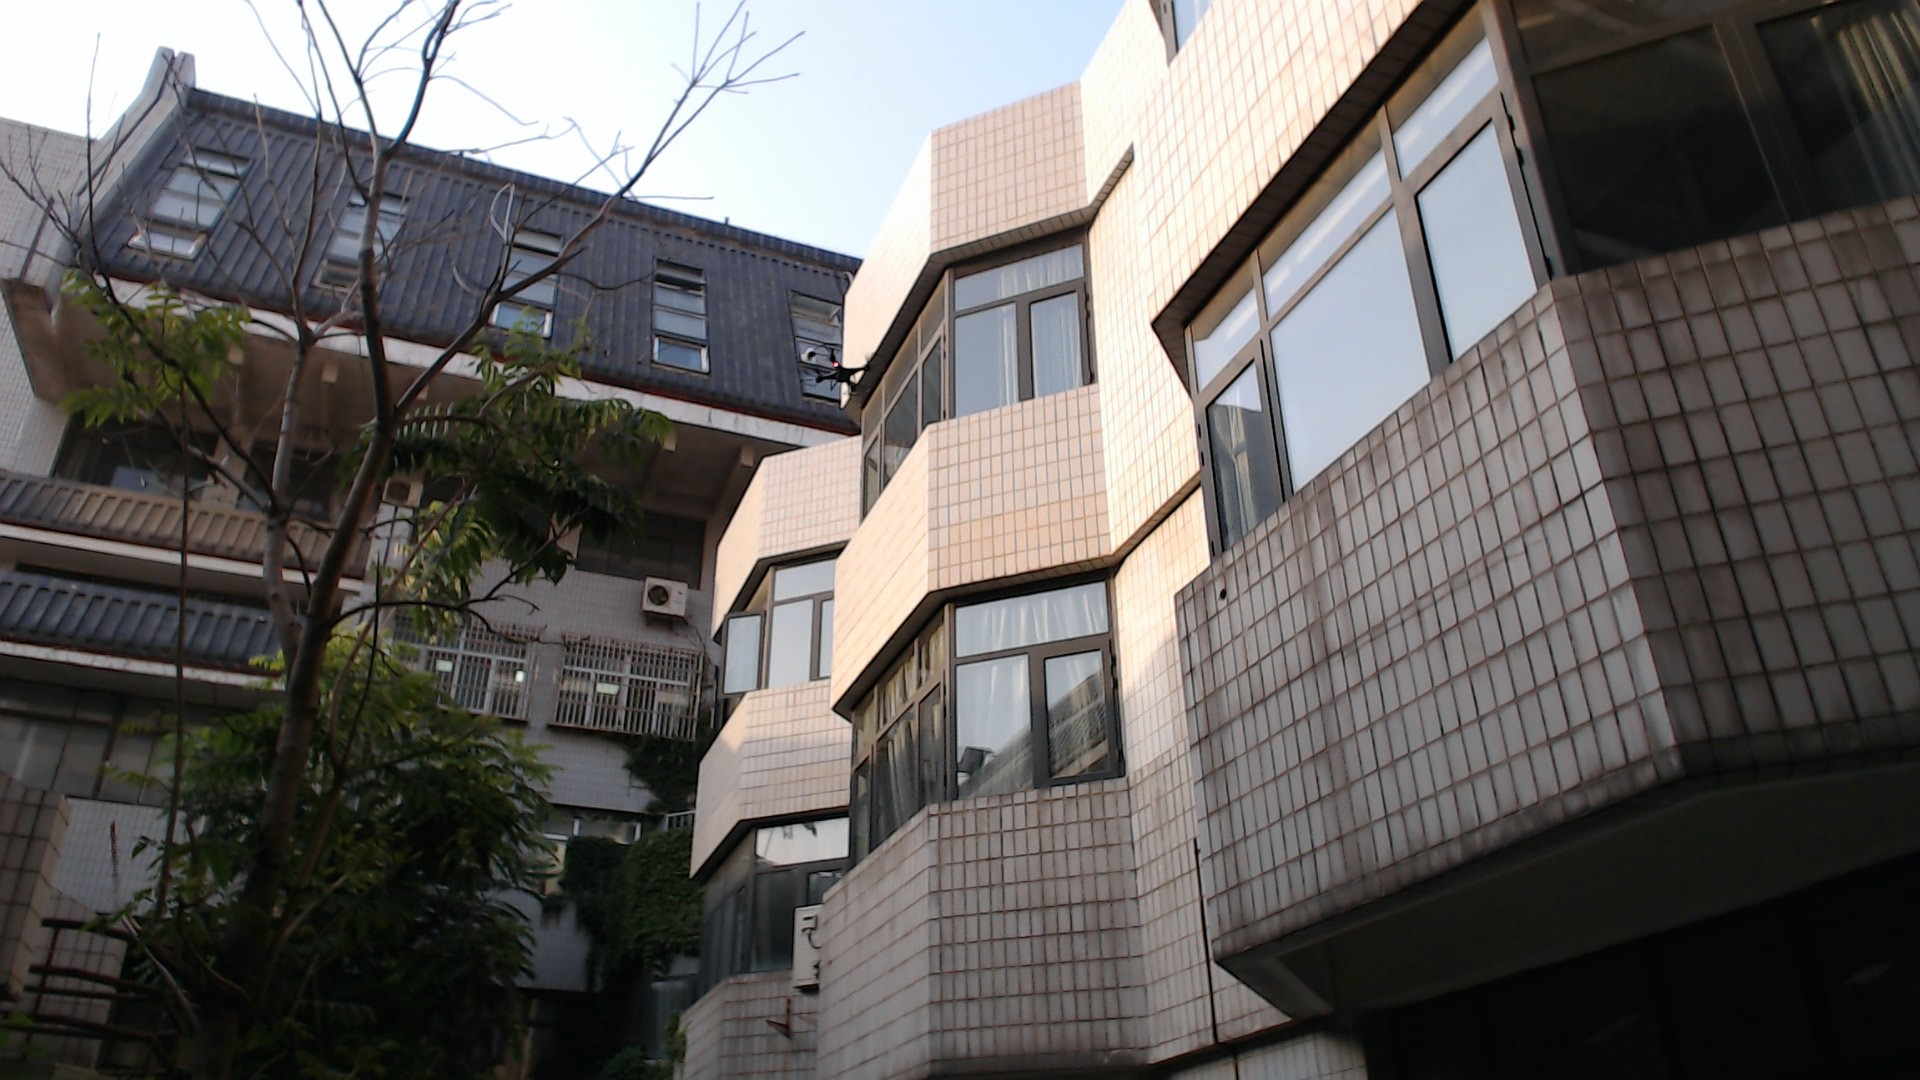drone: (779, 324, 910, 418)
